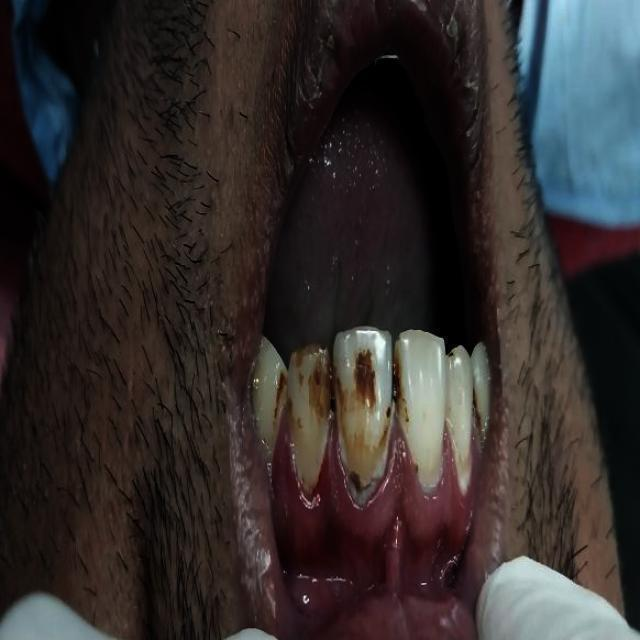CALCULUS: (337, 447, 390, 518), (449, 439, 476, 496)
